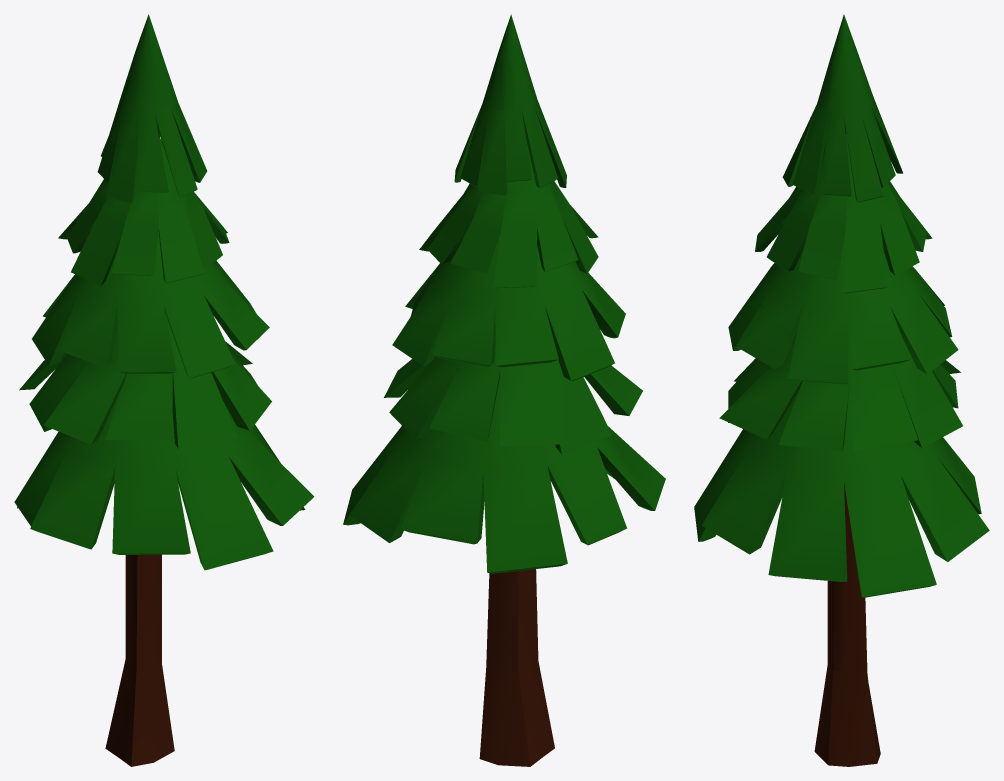
File: TreeFir7.obj
3 views of the same model, side by side, from view 1: azimuth 30°, elevation 25°; view 2: azimuth 150°, elevation 25°; view 3: azimuth 270°, elevation 25° (orthographic).
Parts seen in each view (by area): view 1: Tree_Fir_7; view 2: Tree_Fir_7; view 3: Tree_Fir_7.
Boxes of the visible parts, x1,y1,x2,y2 form: Tree_Fir_7: (14,14,314,766); Tree_Fir_7: (343,14,665,766); Tree_Fir_7: (694,14,989,766).
Bounding box in the file's own units: 0.1902 × 0.4761 × 0.1718.
